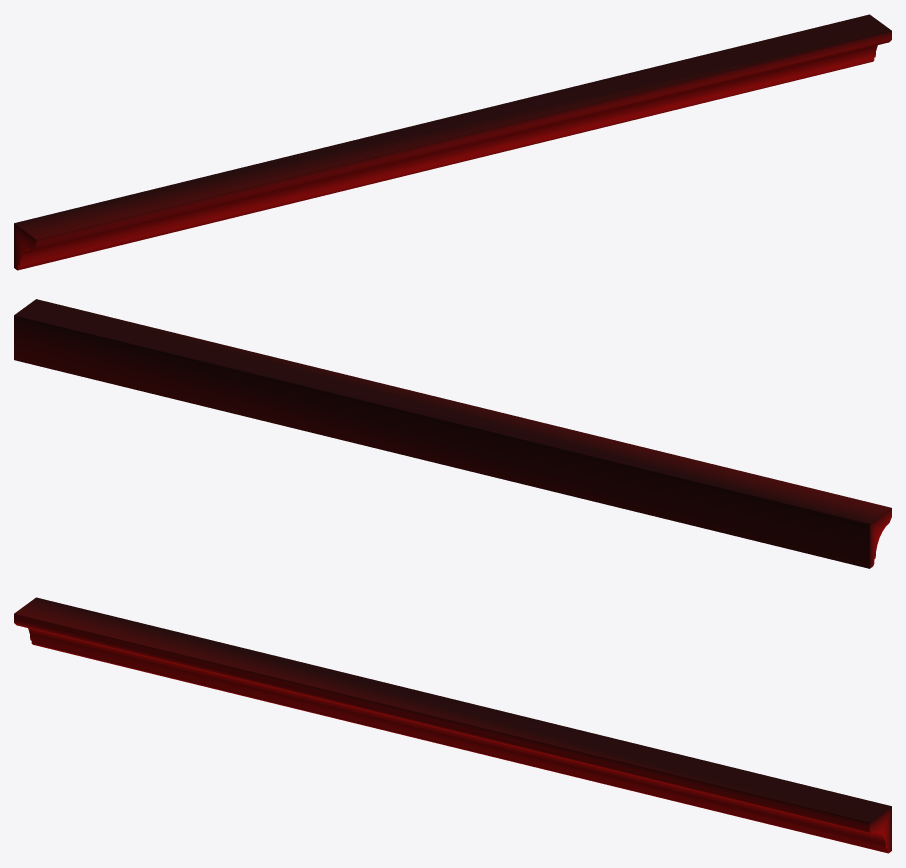
The model's file is CI_Shell_Trim_Crown_2m.glb.
The picture shows the model from 3 angles, top to bottom: view 1: azimuth 30°, elevation 25°; view 2: azimuth 150°, elevation 25°; view 3: azimuth 330°, elevation 25°; orthographic projection.
Visible parts, largest first — view 1: CI_Shell_Trim_Crown_2m; view 2: CI_Shell_Trim_Crown_2m; view 3: CI_Shell_Trim_Crown_2m.
Part boxes in pixels (left/top/right/bottom): CI_Shell_Trim_Crown_2m: left=14, top=14, right=891, bottom=270; CI_Shell_Trim_Crown_2m: left=14, top=299, right=891, bottom=568; CI_Shell_Trim_Crown_2m: left=14, top=597, right=891, bottom=853.
Size of the model in its own units: 2 by 0.1 by 0.09.
